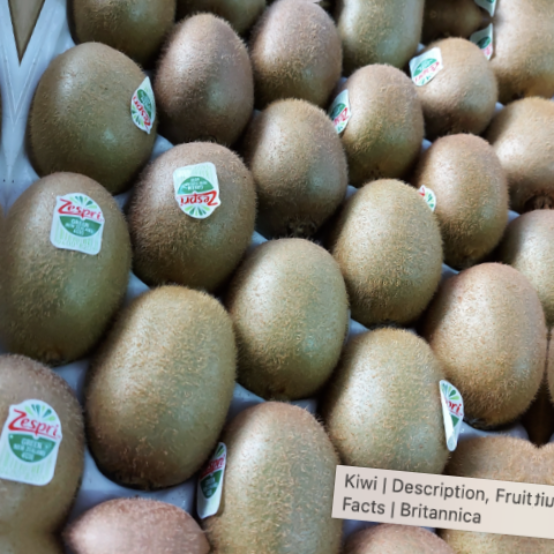kiwi: (62, 253, 259, 502), (310, 304, 477, 506), (0, 157, 150, 366), (178, 378, 355, 554), (409, 245, 554, 456), (317, 160, 458, 342), (135, 0, 270, 172), (132, 129, 262, 301), (395, 120, 518, 276), (315, 55, 441, 194), (243, 81, 362, 222)
